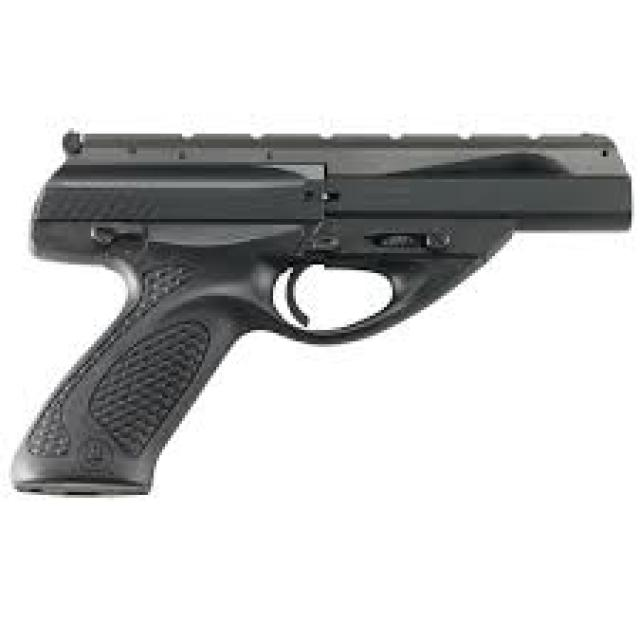pistol: (4, 112, 640, 502)
